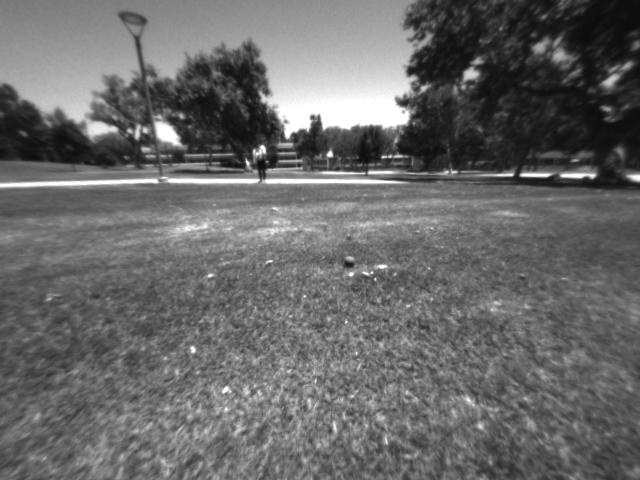dogtoy: (340, 252, 360, 272)
